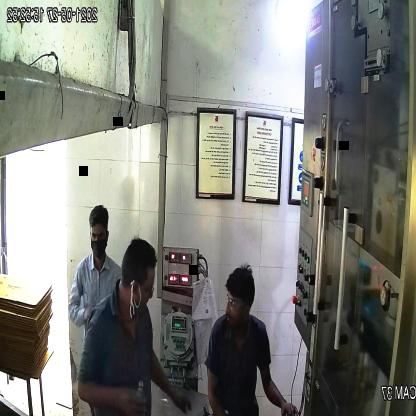goggles: (223, 294, 252, 312)
no_goggles: (88, 231, 109, 243)
